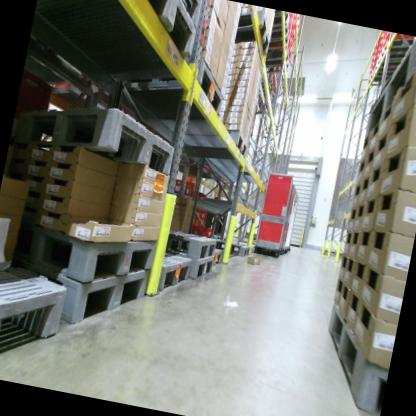pallet: (6, 82, 183, 208), (5, 203, 163, 313), (0, 237, 154, 347), (31, 0, 202, 82), (311, 300, 399, 416), (116, 47, 230, 128), (0, 266, 71, 384), (364, 32, 416, 146), (169, 115, 250, 170), (224, 3, 276, 61), (158, 222, 220, 269), (147, 242, 193, 299), (263, 45, 293, 82), (186, 252, 217, 287), (164, 0, 206, 25), (265, 9, 293, 45), (213, 237, 251, 262), (379, 35, 410, 65), (372, 50, 404, 78), (366, 69, 394, 88), (208, 243, 226, 270)
small_load_carrier: (170, 174, 197, 201), (192, 214, 208, 228), (196, 189, 207, 204), (192, 205, 203, 219), (199, 208, 208, 219)
